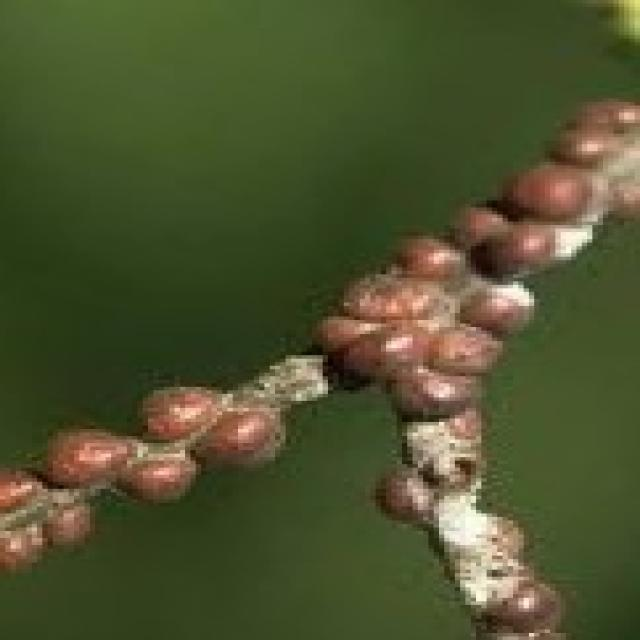Black Scale: (317, 102, 635, 429), (0, 373, 280, 570), (376, 464, 561, 636)
